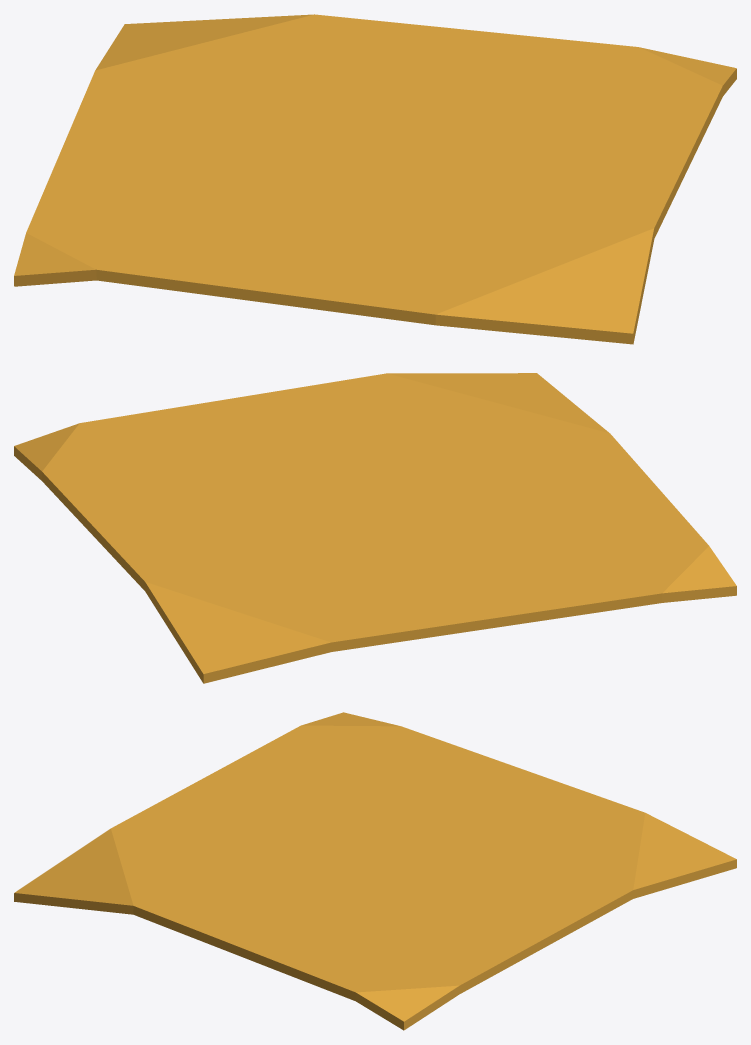
The model's file is cheeseOne.fbx.
3 views of the same model, one above another, from view 1: azimuth 30°, elevation 25°; view 2: azimuth 150°, elevation 25°; view 3: azimuth 270°, elevation 25° (orthographic). The views are drawn at different scales.
Visible parts, largest first — view 1: Plane.016; view 2: Plane.016; view 3: Plane.016.
Boxes of the visible parts, x1,y1,x2,y2 form: Plane.016: [14, 14, 736, 344]; Plane.016: [14, 373, 736, 683]; Plane.016: [14, 712, 736, 1030].
Size of the model in its own units: 19.3 by 1.01 by 19.28.
